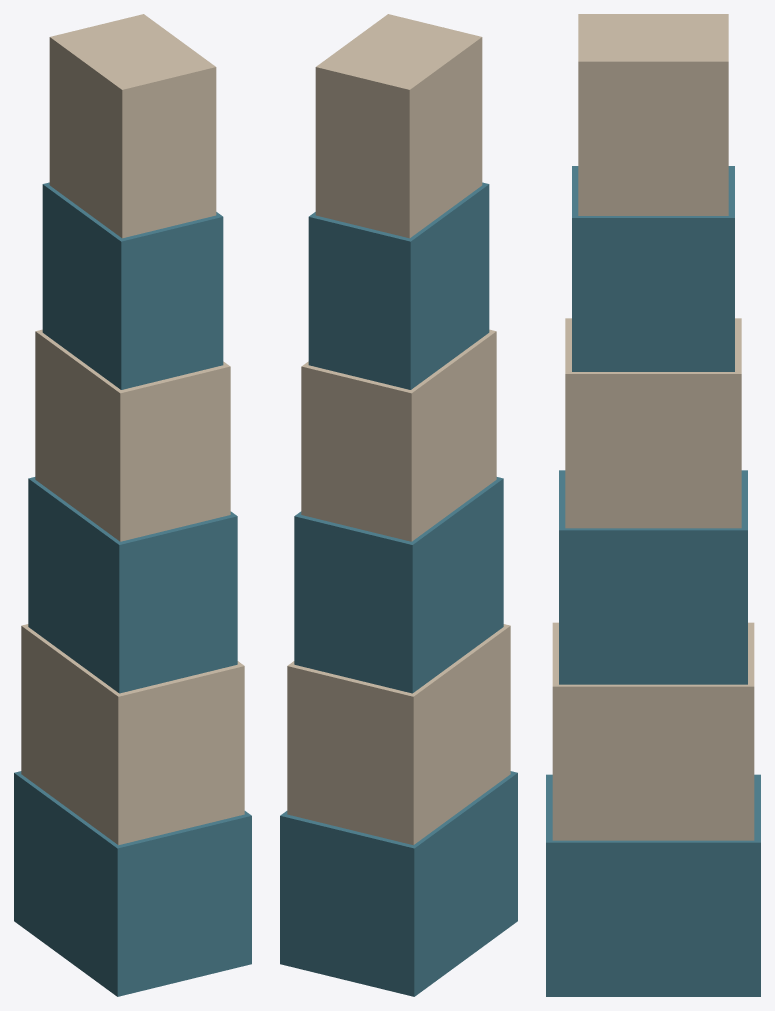
Rendered from bh_waterfront_tower_b_01_lod0.glb.
The picture shows the model from 3 angles, left to right: view 1: azimuth 30°, elevation 25°; view 2: azimuth 150°, elevation 25°; view 3: azimuth 270°, elevation 25°; orthographic projection. The views are drawn at different scales.
Parts seen in each view (by area): view 1: bh_waterfront_tower_b_01_tier_00, bh_waterfront_tower_b_01_tier_01, bh_waterfront_tower_b_01_tier_02, bh_waterfront_tower_b_01_tier_05, bh_waterfront_tower_b_01_tier_03, bh_waterfront_tower_b_01_tier_04; view 2: bh_waterfront_tower_b_01_tier_00, bh_waterfront_tower_b_01_tier_01, bh_waterfront_tower_b_01_tier_02, bh_waterfront_tower_b_01_tier_05, bh_waterfront_tower_b_01_tier_03, bh_waterfront_tower_b_01_tier_04; view 3: bh_waterfront_tower_b_01_tier_00, bh_waterfront_tower_b_01_tier_01, bh_waterfront_tower_b_01_tier_05, bh_waterfront_tower_b_01_tier_02, bh_waterfront_tower_b_01_tier_03, bh_waterfront_tower_b_01_tier_04.
Part boxes in pixels (x1=…): bh_waterfront_tower_b_01_tier_00: x1=14, y1=771, x2=251, y2=996; bh_waterfront_tower_b_01_tier_01: x1=21, y1=624, x2=244, y2=845; bh_waterfront_tower_b_01_tier_02: x1=28, y1=477, x2=237, y2=693; bh_waterfront_tower_b_01_tier_05: x1=49, y1=14, x2=216, y2=238; bh_waterfront_tower_b_01_tier_03: x1=35, y1=329, x2=230, y2=541; bh_waterfront_tower_b_01_tier_04: x1=42, y1=182, x2=223, y2=389; bh_waterfront_tower_b_01_tier_00: x1=280, y1=771, x2=517, y2=996; bh_waterfront_tower_b_01_tier_01: x1=287, y1=624, x2=510, y2=845; bh_waterfront_tower_b_01_tier_02: x1=294, y1=477, x2=503, y2=693; bh_waterfront_tower_b_01_tier_05: x1=315, y1=14, x2=482, y2=238; bh_waterfront_tower_b_01_tier_03: x1=301, y1=329, x2=496, y2=541; bh_waterfront_tower_b_01_tier_04: x1=308, y1=182, x2=489, y2=389; bh_waterfront_tower_b_01_tier_00: x1=546, y1=774, x2=760, y2=996; bh_waterfront_tower_b_01_tier_01: x1=552, y1=622, x2=754, y2=840; bh_waterfront_tower_b_01_tier_05: x1=578, y1=14, x2=728, y2=215; bh_waterfront_tower_b_01_tier_02: x1=559, y1=470, x2=747, y2=684; bh_waterfront_tower_b_01_tier_03: x1=565, y1=318, x2=741, y2=528; bh_waterfront_tower_b_01_tier_04: x1=572, y1=166, x2=734, y2=371.
Bounding box in the file's own units: 6 × 38 × 8.
